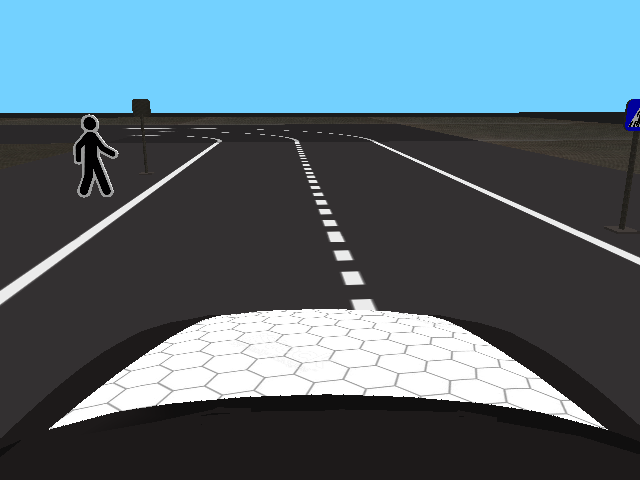pedestrian: (71, 114, 119, 199)
